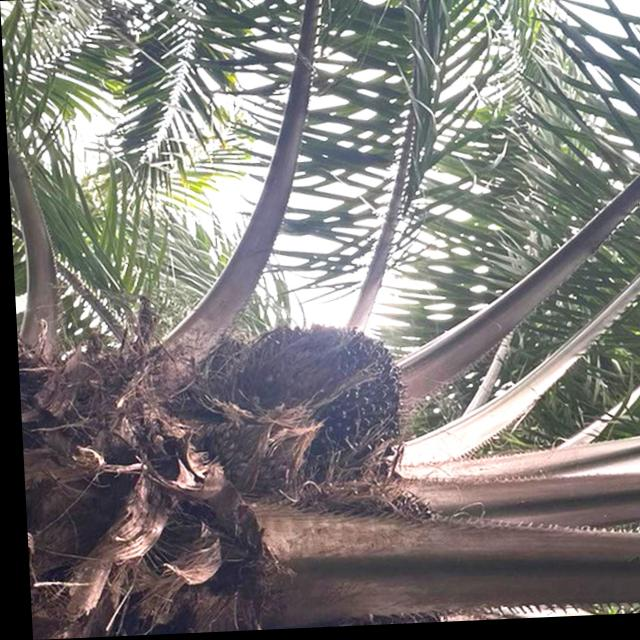unripe: (211, 317, 407, 465)
